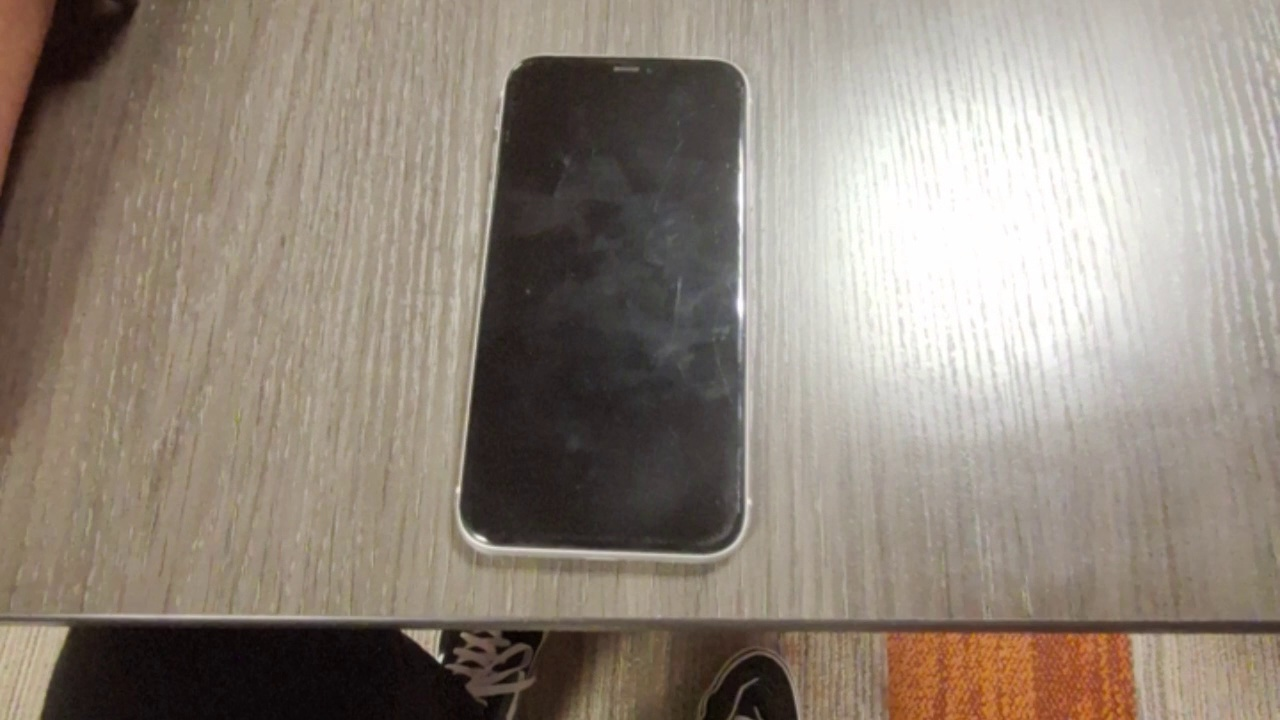celular: (456, 55, 751, 561)
